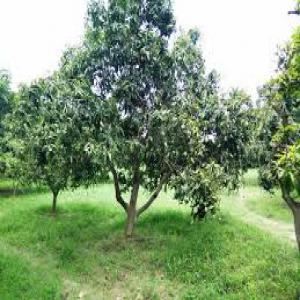Tree: (64, 3, 214, 237), (233, 56, 299, 256), (18, 68, 102, 221)
